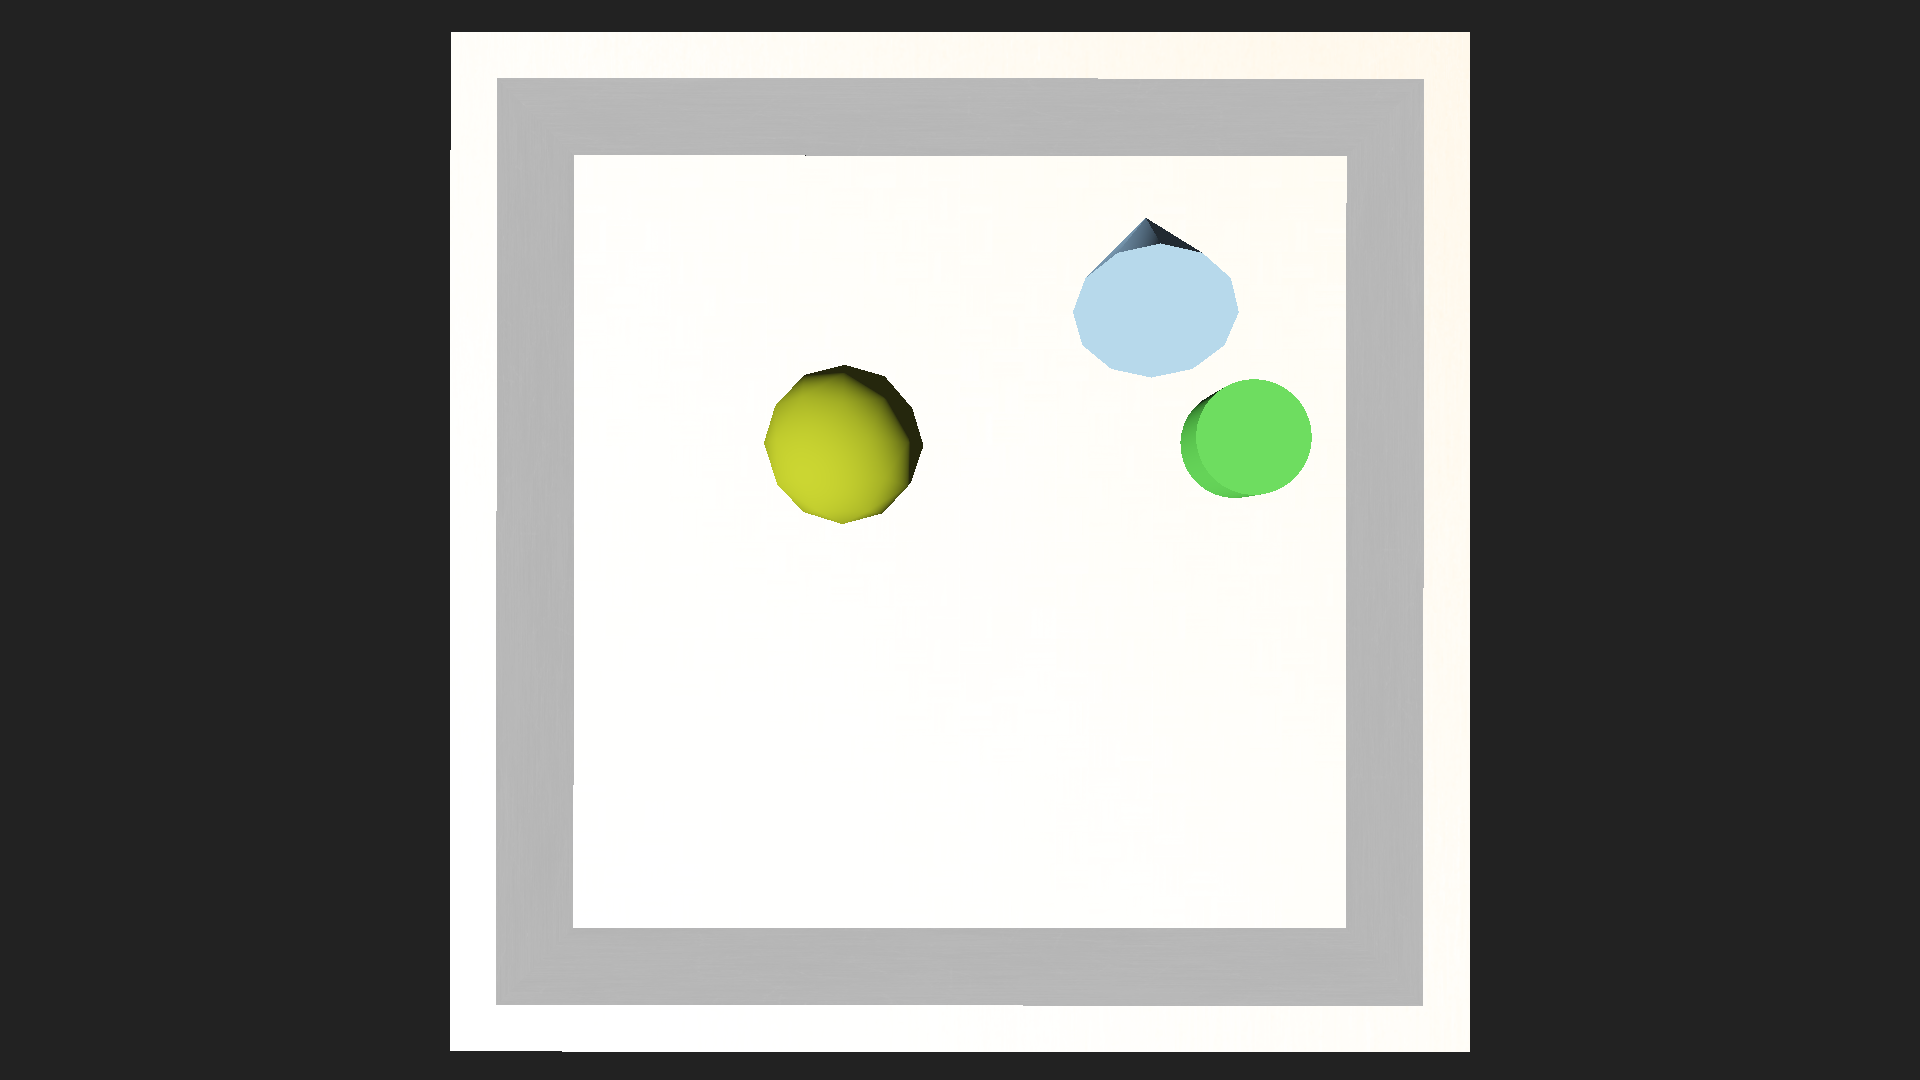cone: (1179, 378, 1311, 497)
cylinder: (1072, 137, 1236, 380)
sphere: (764, 364, 923, 524)
